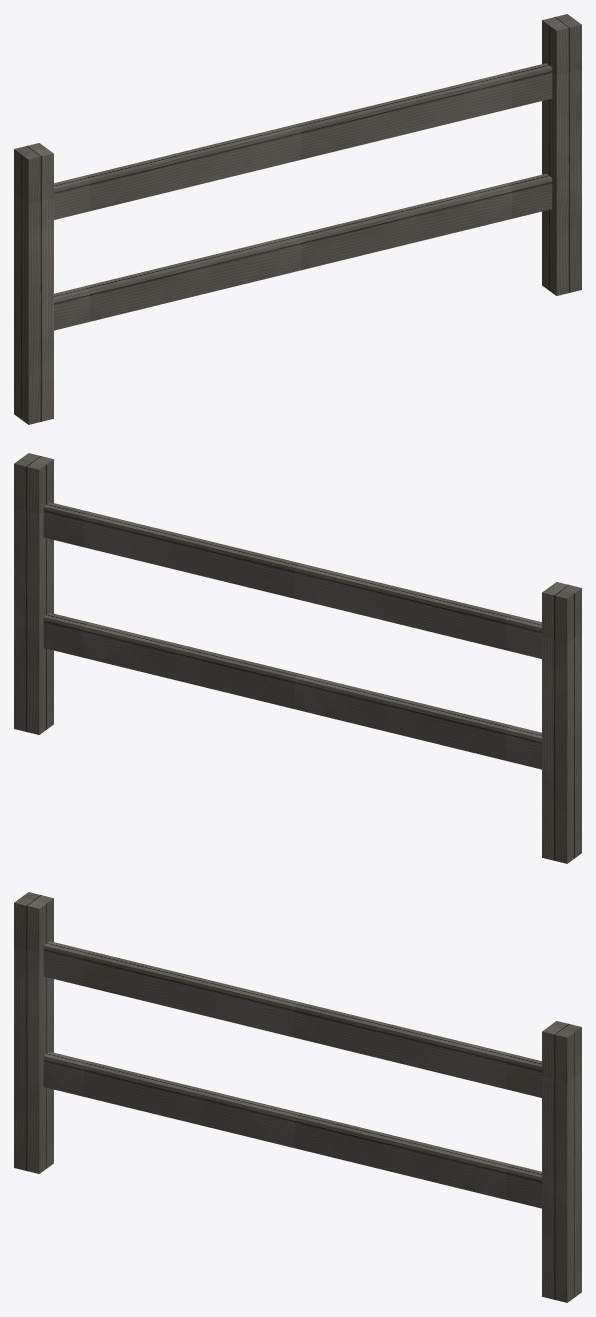
Rendered from fence0.fbx.
3 views of the same model, one above another, from view 1: azimuth 30°, elevation 25°; view 2: azimuth 150°, elevation 25°; view 3: azimuth 330°, elevation 25° (orthographic).
Visible parts, largest first — view 1: fence0; view 2: fence0; view 3: fence0.
Boxes of the visible parts, box(x1,y1,x2,y2) form: fence0: box(14, 14, 581, 424); fence0: box(14, 453, 581, 863); fence0: box(14, 892, 581, 1302).
Size of the model in its own units: 2.62 by 1.2 by 0.12.
1 material, 1 textured.
